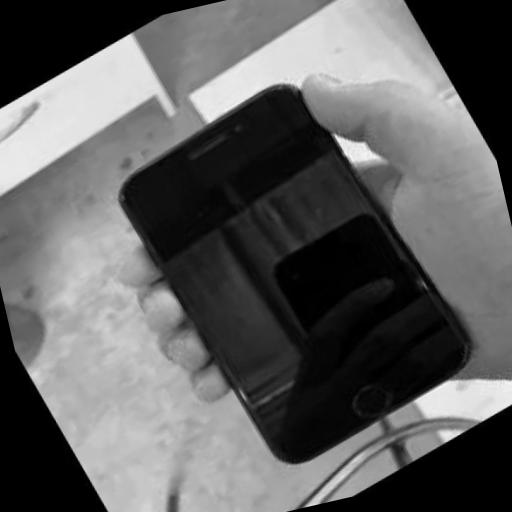phone: (121, 90, 474, 474)
